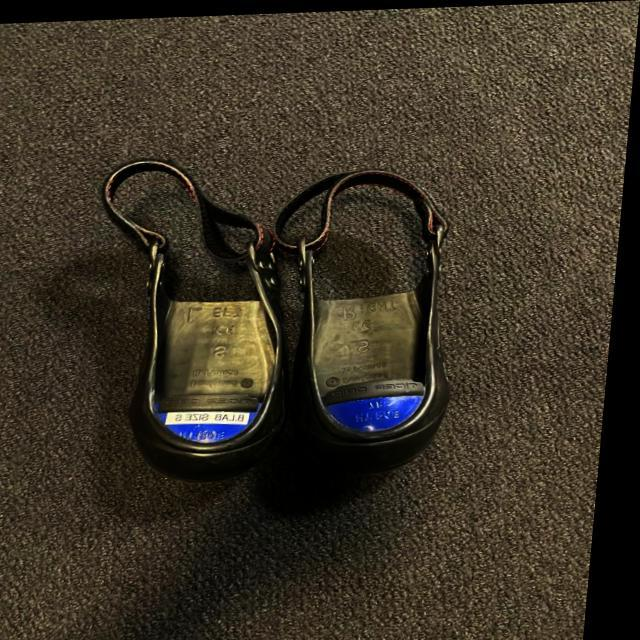shoes: (282, 159, 456, 448), (116, 155, 270, 469)
